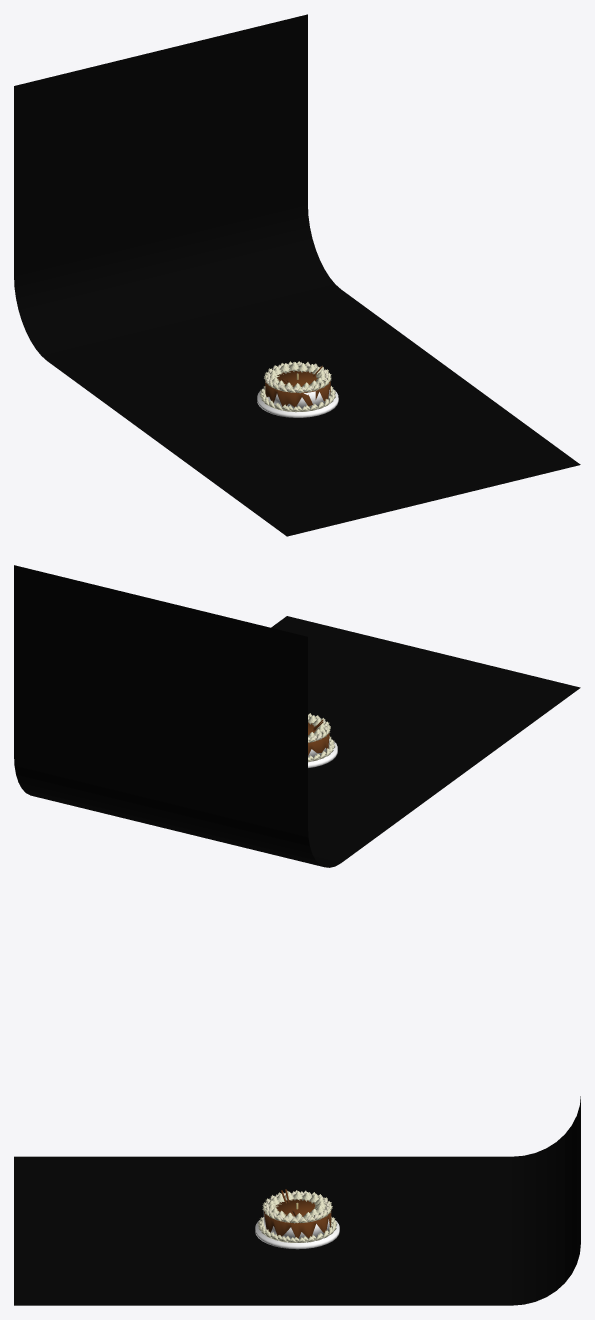
Rendered from cake1.glb.
3 views of the same model, one above another, from view 1: azimuth 30°, elevation 25°; view 2: azimuth 150°, elevation 25°; view 3: azimuth 270°, elevation 25° (orthographic). The views are drawn at different scales.
Parts seen in each view (by area): view 1: Plane, Circle.002; view 2: Plane; view 3: Plane, Circle.002, Circle.
Part boxes in pixels (x1,y1,x2,y2): Plane: (14,14,580,536); Circle.002: (265,370,330,407); Plane: (14,565,580,867); Plane: (14,1096,580,1305); Circle.002: (264,1199,331,1238); Circle: (255,1220,339,1249).
Bounding box in the file's own units: 8.33 × 6.81 × 13.4.
